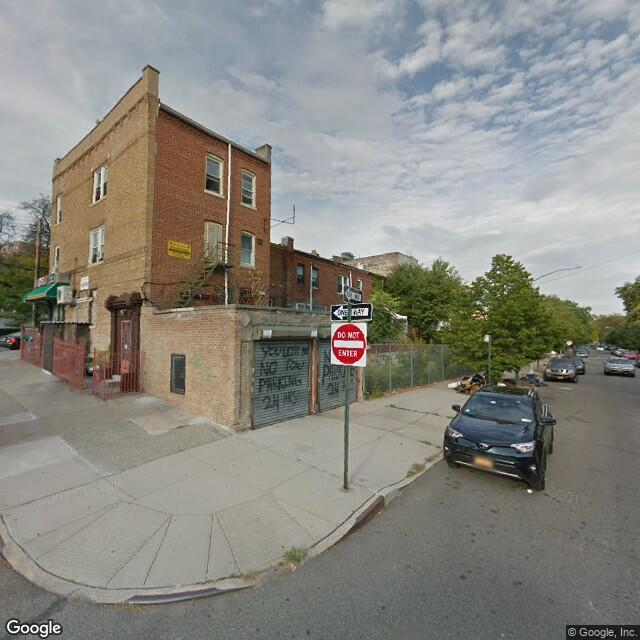litter: (451, 365, 483, 399)
